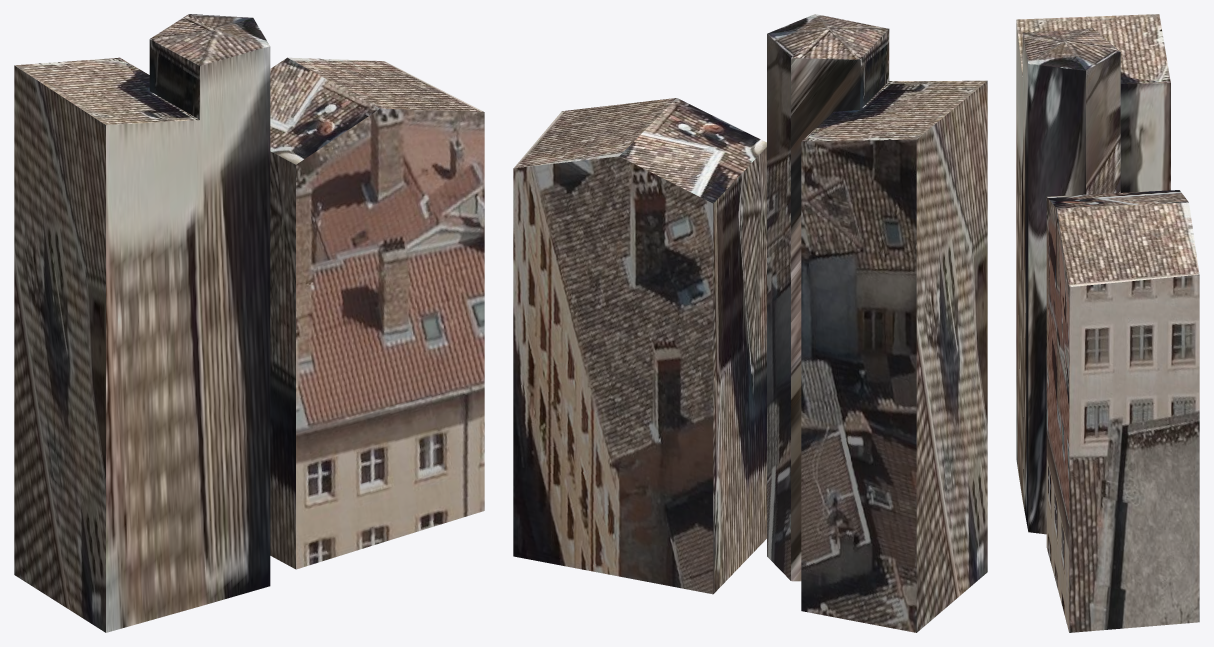
3 views of the same model, side by side, from view 1: azimuth 30°, elevation 25°; view 2: azimuth 150°, elevation 25°; view 3: azimuth 270°, elevation 25° (orthographic). The views are drawn at different scales.
Parts seen in each view (by area): view 1: Z_UP; view 2: Z_UP; view 3: Z_UP.
Part boxes in pixels (left/top/right/bottom): Z_UP: left=14, top=14, right=484, bottom=632; Z_UP: left=513, top=14, right=987, bottom=632; Z_UP: left=1016, top=14, right=1199, bottom=632.
Size of the model in its own units: 19.95 by 25.02 by 8.72.
2 materials, 1 textured.
